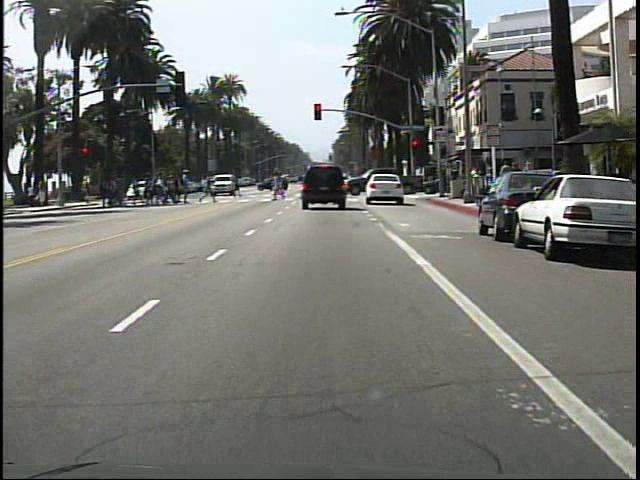person: (228, 168, 247, 202), (481, 159, 496, 199)
